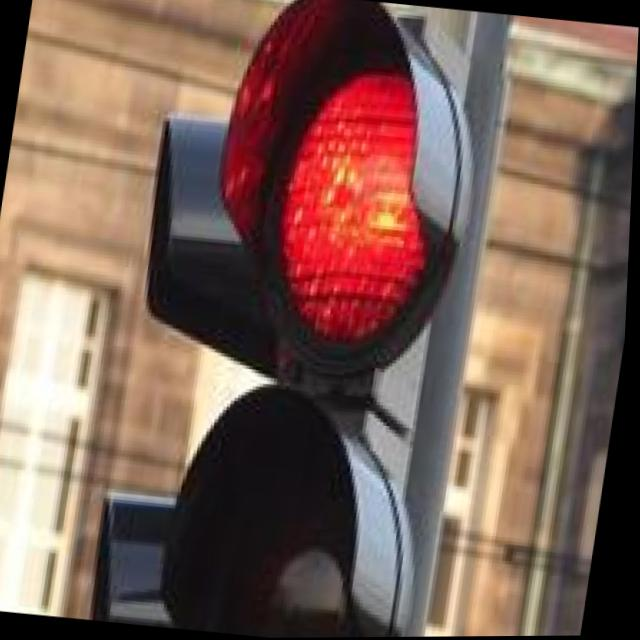red_light: (122, 29, 544, 440)
